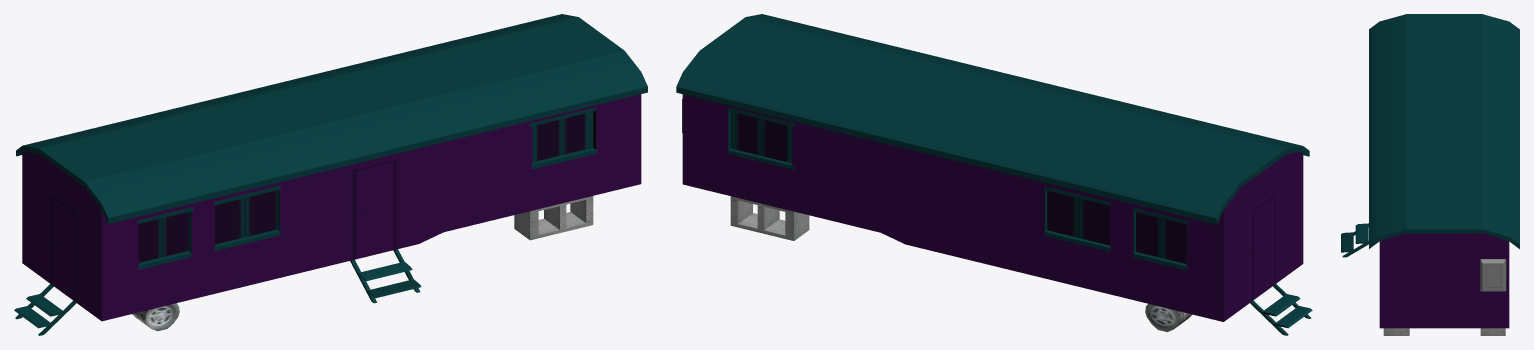
File: Caravan.fbx
3 renders of one model, left to right at view 1: azimuth 30°, elevation 25°; view 2: azimuth 150°, elevation 25°; view 3: azimuth 270°, elevation 25°, orthographic. The views are drawn at different scales.
Parts seen in each view (by area): view 1: pCube1; view 2: pCube1; view 3: pCube1.
Part boxes in pixels (bbox=[...]): pCube1: bbox=[14, 14, 647, 335]; pCube1: bbox=[676, 14, 1312, 335]; pCube1: bbox=[1341, 14, 1519, 335].
Bounding box in the file's own units: 19.04 × 4.8 × 6.22.
